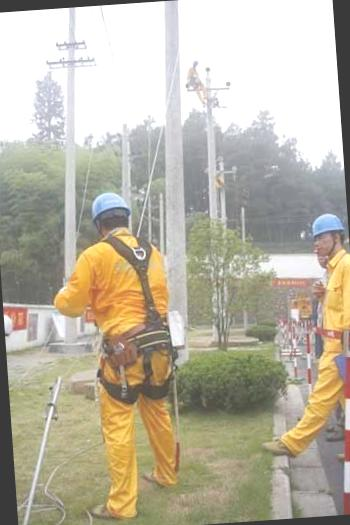helmet: (81, 186, 134, 221), (310, 211, 346, 238)
person: (43, 181, 193, 525), (270, 207, 350, 506)
